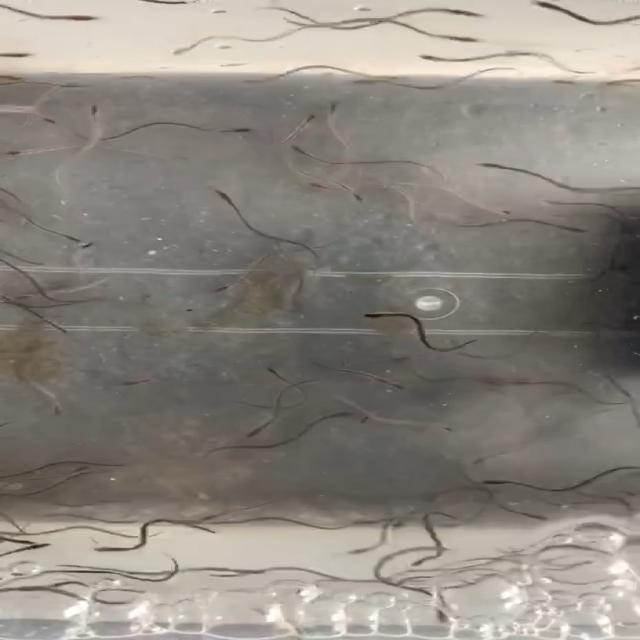active_glass_eel: (437, 599, 474, 630), (338, 73, 394, 92), (459, 157, 518, 174), (322, 94, 354, 125), (85, 540, 146, 555), (434, 32, 494, 47), (0, 544, 53, 560), (44, 10, 108, 23), (513, 0, 568, 15), (213, 122, 271, 136), (71, 236, 109, 256), (330, 544, 376, 560), (476, 473, 532, 486), (49, 393, 74, 422), (216, 187, 250, 208), (196, 504, 238, 521), (34, 108, 66, 130), (0, 45, 44, 60), (0, 144, 43, 159), (451, 8, 496, 22), (346, 185, 376, 206), (510, 510, 552, 525), (416, 418, 460, 432), (375, 376, 416, 391), (286, 142, 318, 161), (49, 226, 87, 242), (244, 424, 278, 441), (210, 279, 247, 294), (343, 409, 377, 425), (85, 101, 105, 128), (412, 49, 450, 63), (478, 202, 516, 216), (0, 530, 33, 546), (402, 553, 439, 567), (359, 307, 395, 321), (387, 516, 422, 530), (230, 564, 270, 576), (67, 465, 109, 476), (552, 224, 590, 236), (297, 110, 321, 128), (166, 44, 196, 58), (109, 459, 146, 469), (263, 364, 289, 378)
